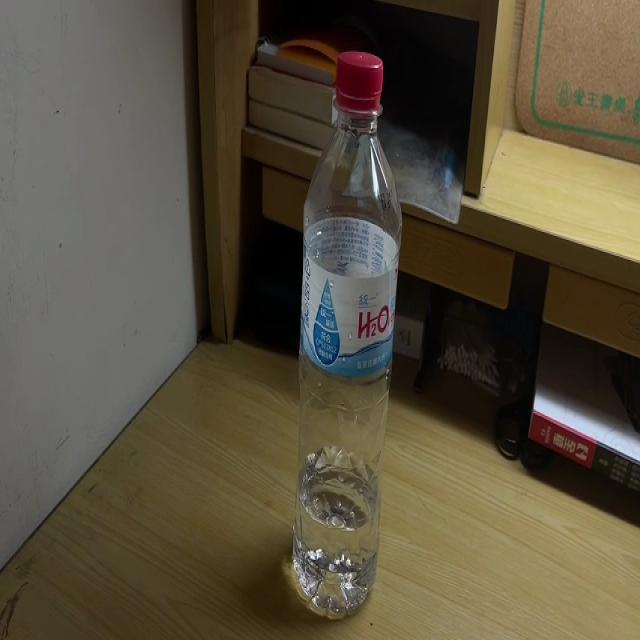Water: (294, 52, 402, 621)
